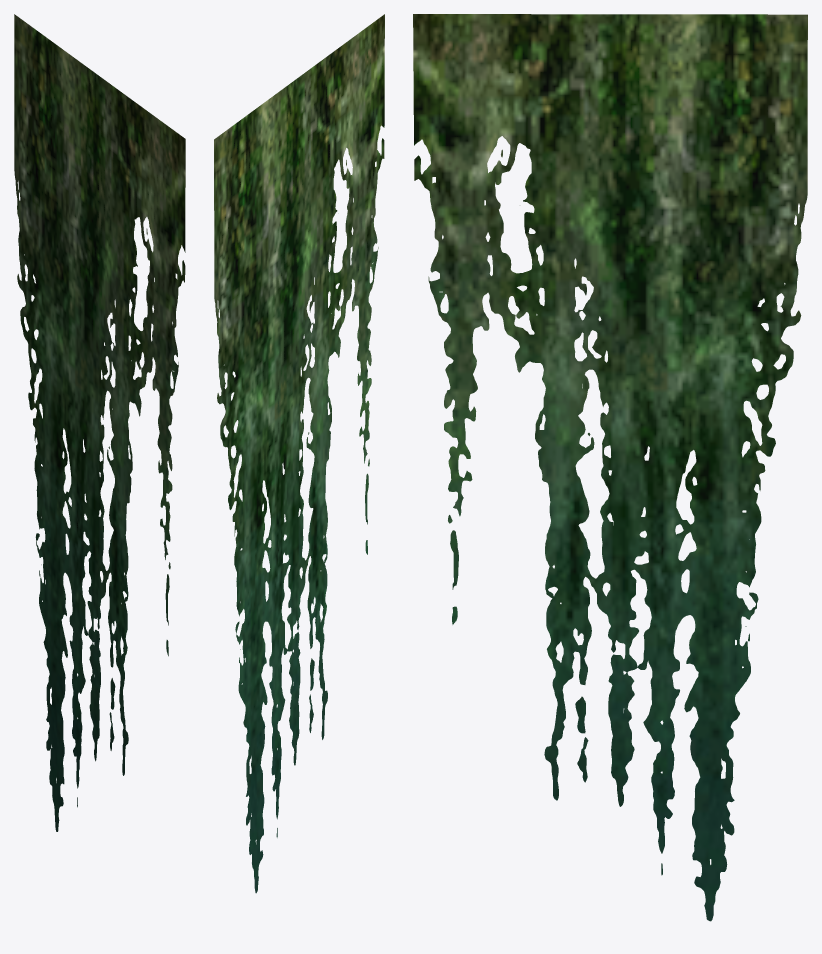
File: thm_all_cave_hangingmoss_a2.fbx
The picture shows the model from 3 angles, left to right: view 1: azimuth 30°, elevation 25°; view 2: azimuth 150°, elevation 25°; view 3: azimuth 270°, elevation 25°; orthographic projection. The views are drawn at different scales.
Parts seen in each view (by area): view 1: mesh_node; view 2: mesh_node; view 3: mesh_node.
Boxes of the visible parts, bbox=[...] form: mesh_node: bbox=[14, 14, 185, 831]; mesh_node: bbox=[214, 14, 384, 893]; mesh_node: bbox=[413, 14, 807, 921].
Size of the model in its own units: 0 by 1.49 by 0.5739.
Materials: 1 (1 with a texture image).
